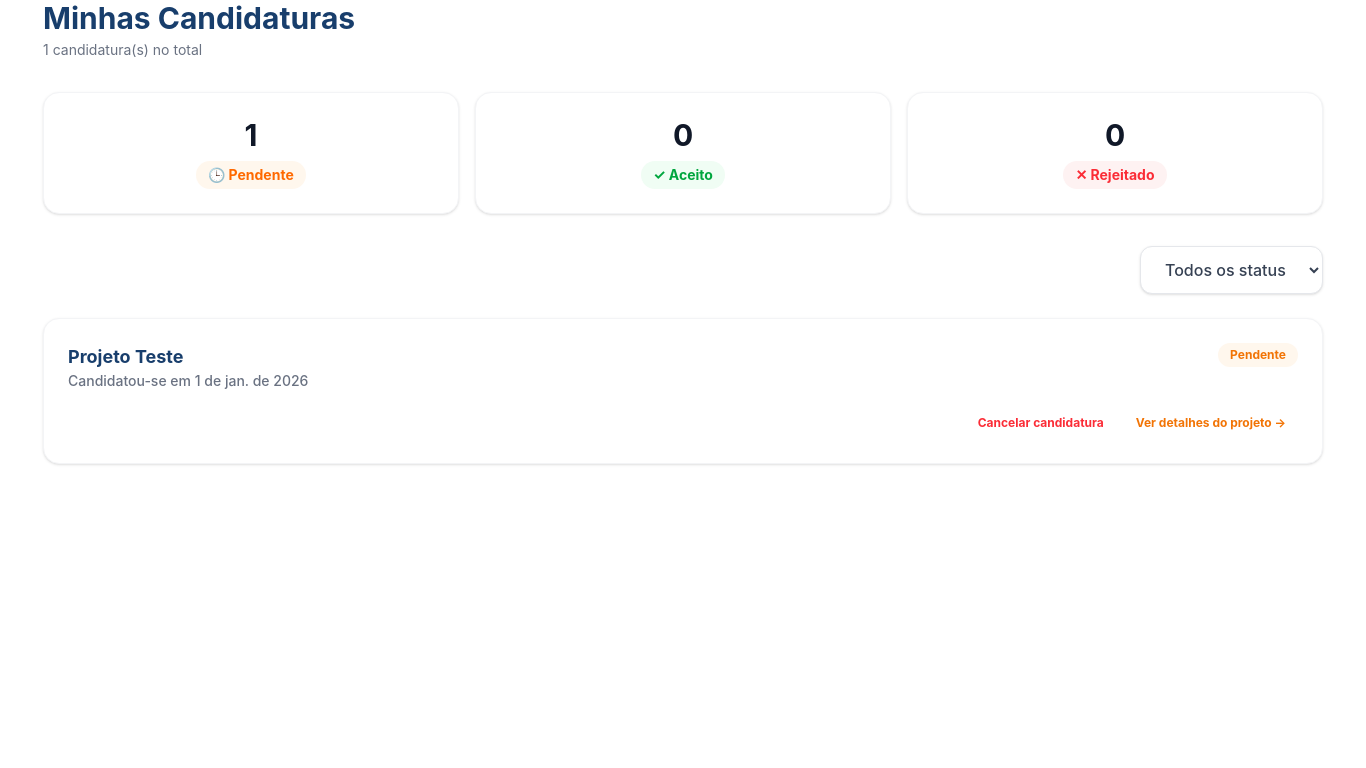
Test: Candidaturas › cancela uma candidatura pendente e remove da lista
Expected: the heading "Projeto Teste" is shown, [68, 346, 184, 367]
Click the button "Cancelar candidatura". click: (1041, 423)
box: [966, 407, 1116, 439]
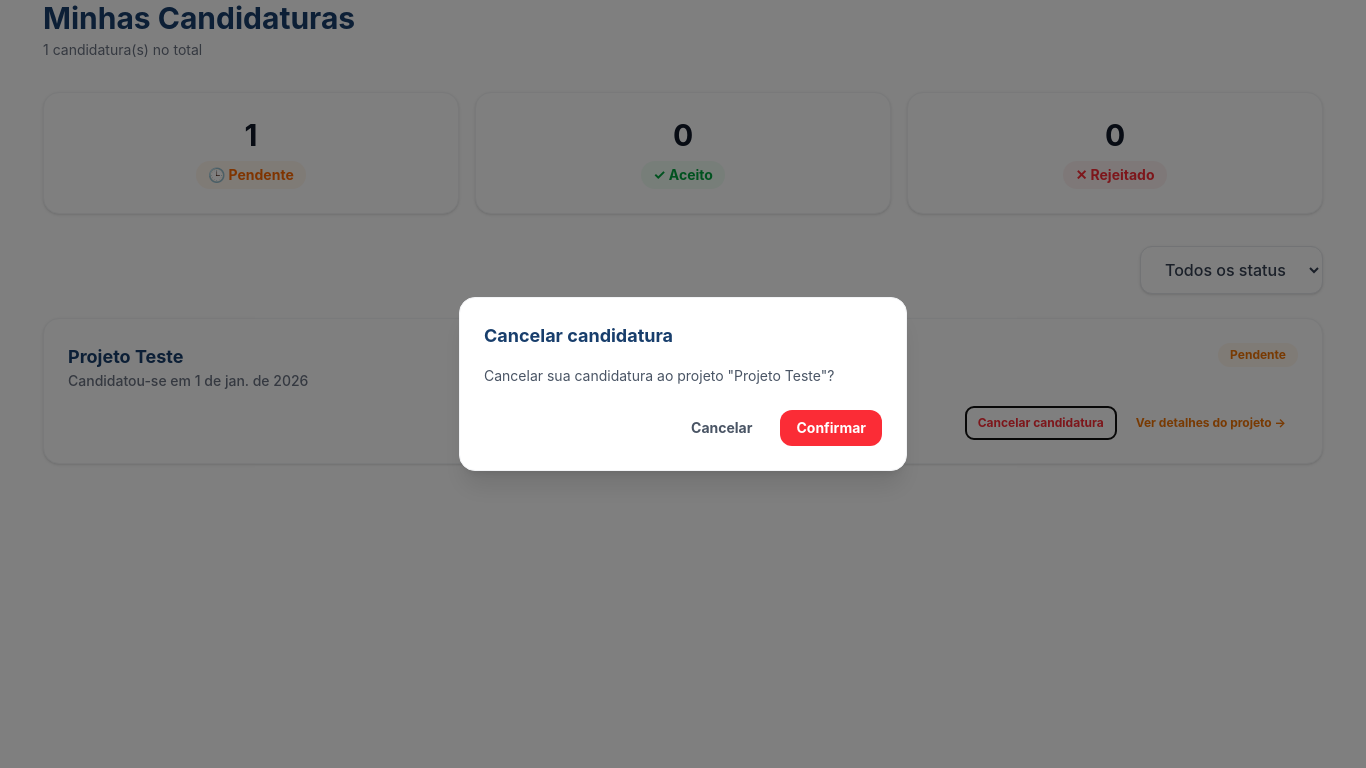
Expected: the dialog is shown
Click the button "Confirmar". click: (831, 428)
box: [780, 410, 882, 446]
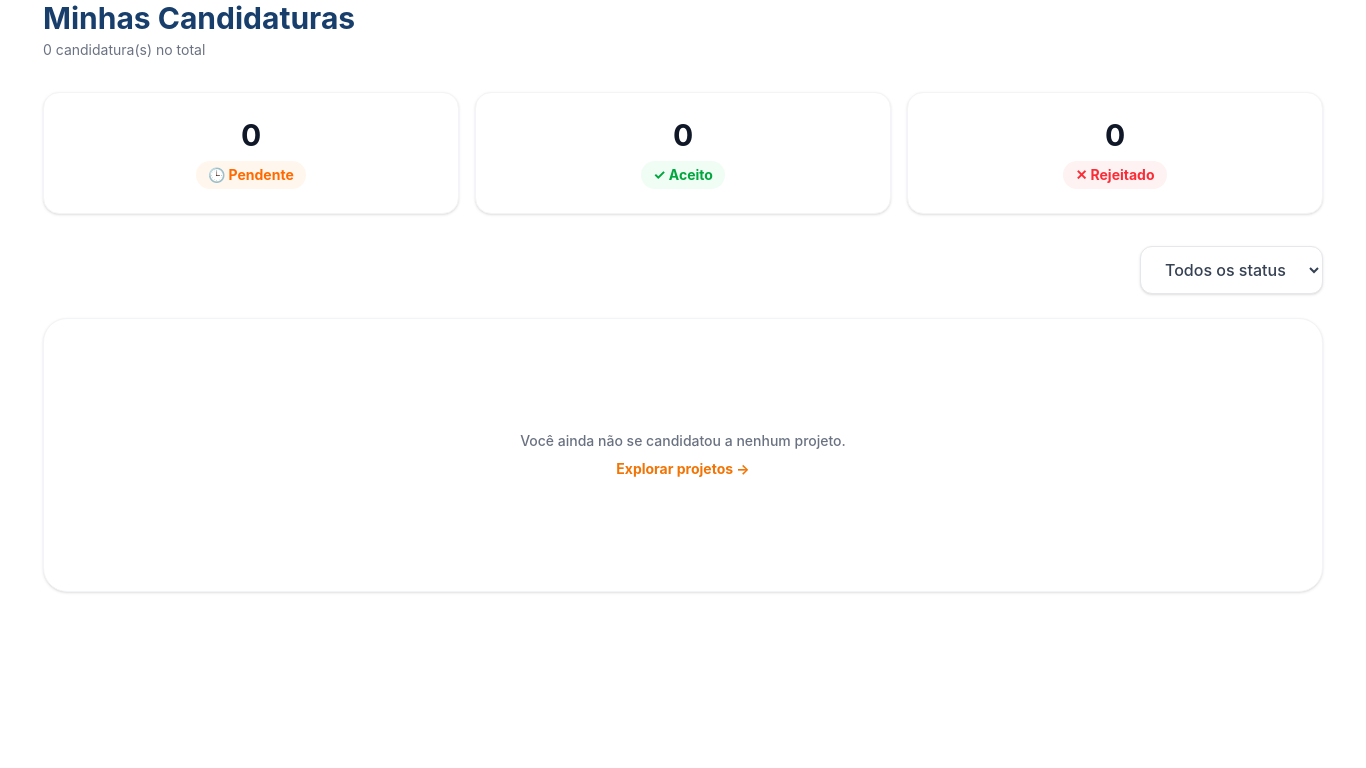
Expected: the link "Projeto Teste" is gone
